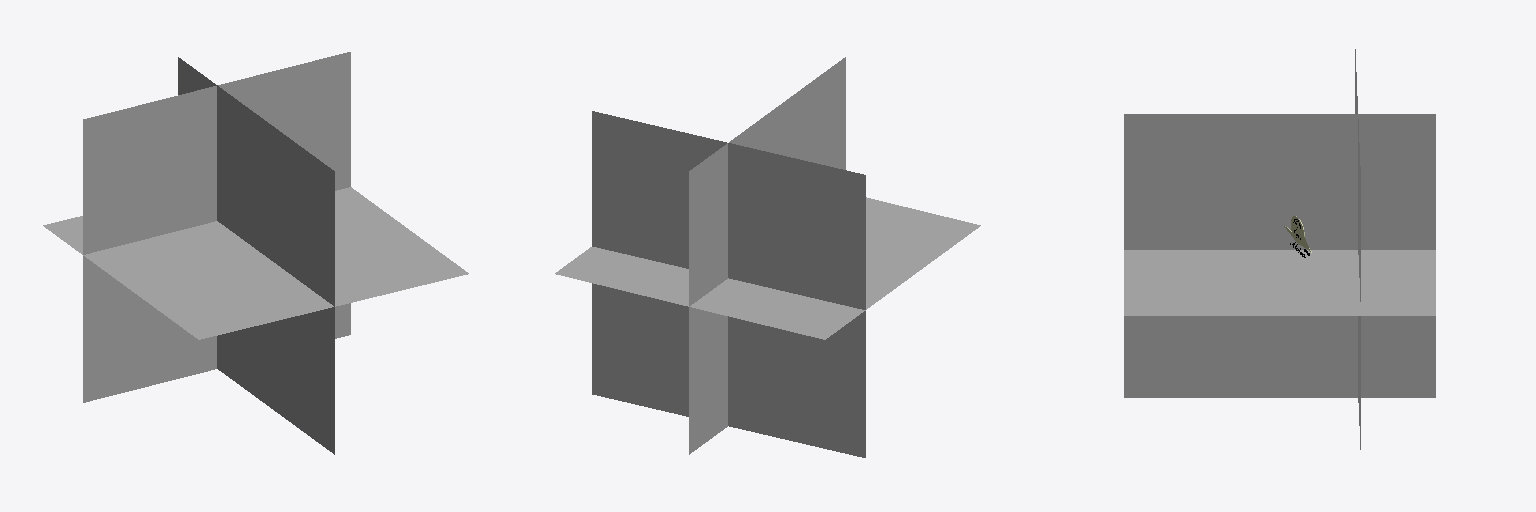
The picture shows the model from 3 angles: view 1: azimuth 30°, elevation 25°; view 2: azimuth 150°, elevation 25°; view 3: azimuth 270°, elevation 25°; orthographic projection.
Visible parts, largest first — view 1: Plane.1, Plane.2, Plane; view 2: Plane.1, Plane.2, Plane; view 3: Plane.2, Plane, Plane.1.
Boxes of the visible parts, x1,y1,x2,y2 form: Plane.1: [83, 52, 350, 402]; Plane.2: [178, 57, 334, 454]; Plane: [43, 187, 468, 339]; Plane.1: [592, 111, 865, 457]; Plane.2: [689, 57, 845, 454]; Plane: [555, 197, 980, 339]; Plane.2: [1124, 114, 1435, 397]; Plane: [1124, 250, 1435, 315]; Plane.1: [1355, 49, 1360, 449].
Size of the model in its own units: 400 by 400 by 400.